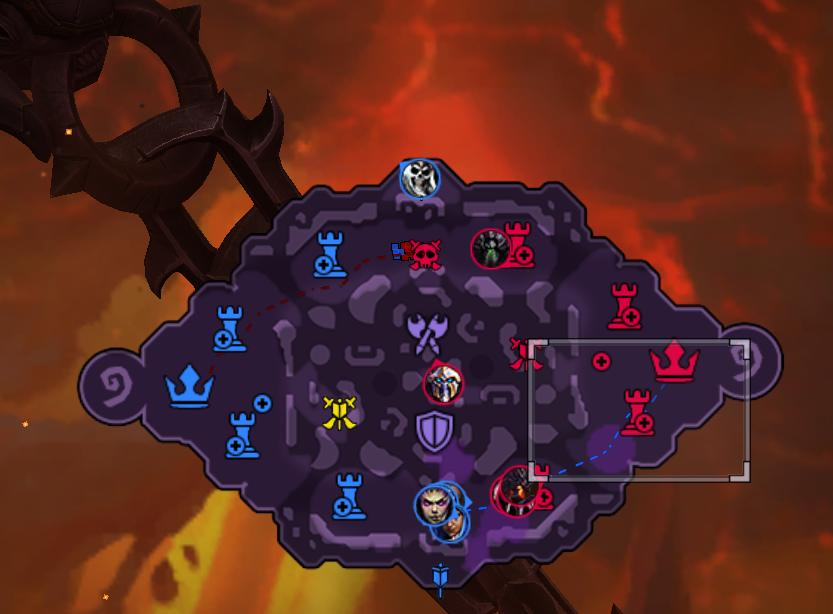blue player: (412, 483, 459, 528), (397, 154, 441, 201), (430, 502, 474, 546)
red player: (486, 462, 546, 521), (468, 225, 514, 272), (422, 359, 467, 406)
